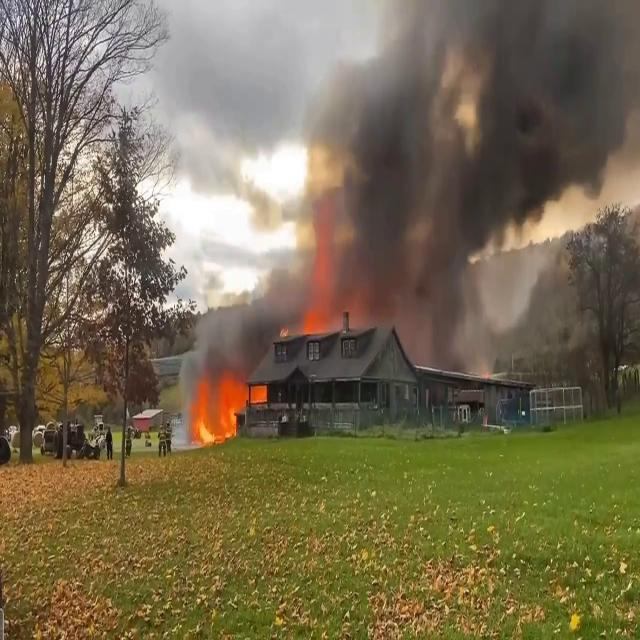Fire: (184, 362, 268, 451)
Smoke: (315, 0, 639, 350)
